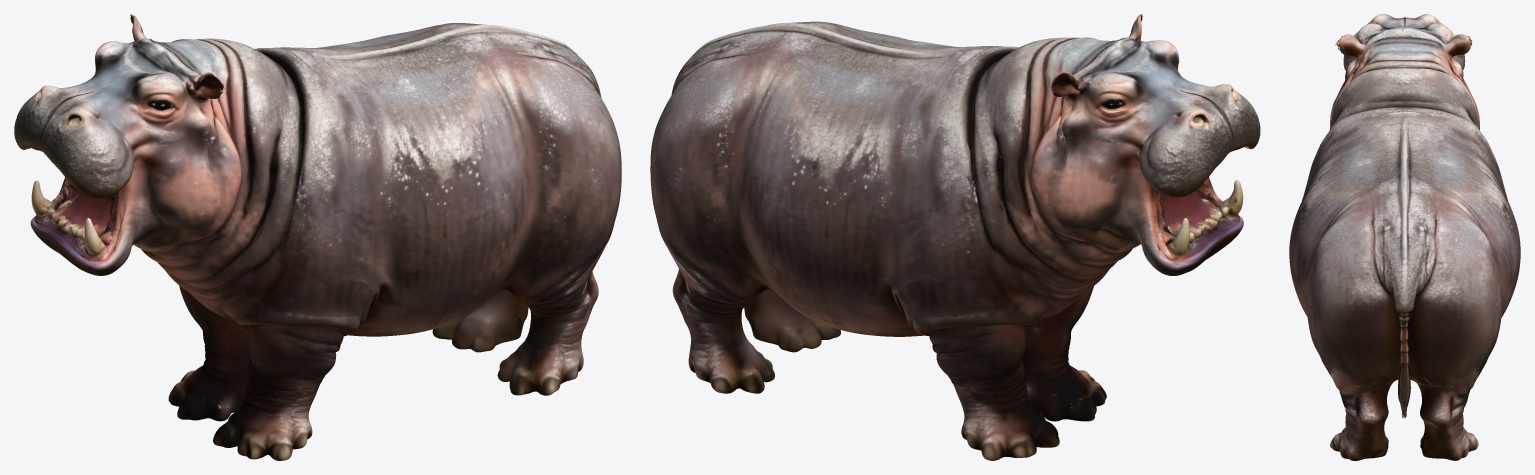
Rendered from Hippo.fbx.
The picture shows the model from 3 angles, left to right: view 1: azimuth 30°, elevation 25°; view 2: azimuth 150°, elevation 25°; view 3: azimuth 270°, elevation 25°; orthographic projection. The views are drawn at different scales.
Parts seen in each view (by area): view 1: world; view 2: world; view 3: world.
Boxes of the visible parts, x1,y1,x2,y2 form: world: [14, 14, 621, 460]; world: [650, 14, 1260, 460]; world: [1289, 14, 1520, 460].
Size of the model in its own units: 199 by 133 by 94.62.
1 material, 1 textured.
